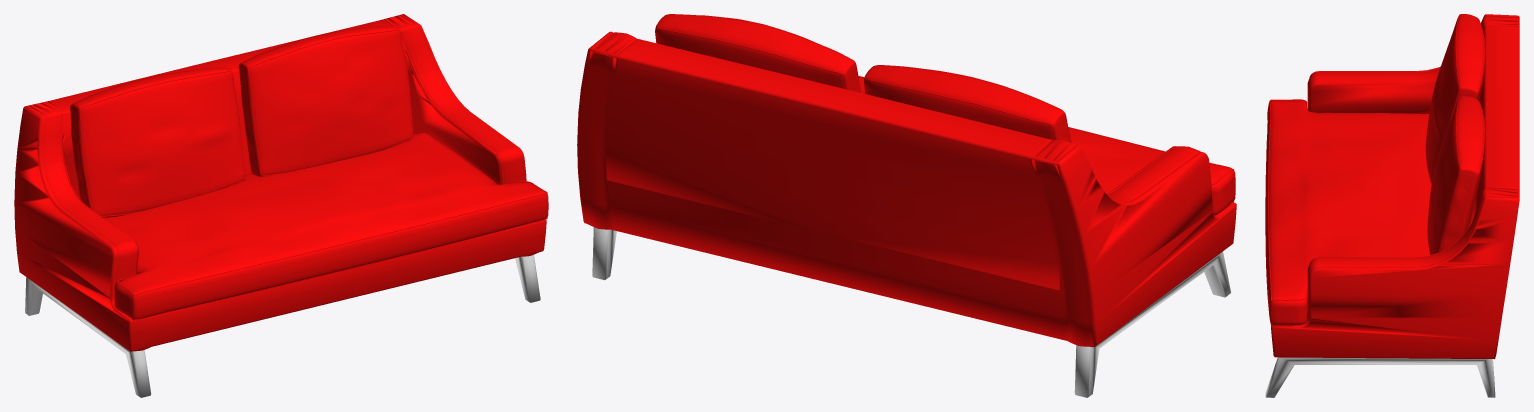
The picture shows the model from 3 angles, left to right: view 1: azimuth 30°, elevation 25°; view 2: azimuth 150°, elevation 25°; view 3: azimuth 270°, elevation 25°; orthographic projection. The views are drawn at different scales.
Parts seen in each view (by area): view 1: buffer-0-mesh-0_2_2, buffer-0-mesh-0_1_1, buffer-0-mesh-0_0; view 2: buffer-0-mesh-0_1_1, buffer-0-mesh-0_2_2, buffer-0-mesh-0_0; view 3: buffer-0-mesh-0_1_1, buffer-0-mesh-0_2_2, buffer-0-mesh-0_0.
Part boxes in pixels (x1=…): buffer-0-mesh-0_2_2: x1=70, y1=25, x2=548, y2=319; buffer-0-mesh-0_1_1: x1=14, y1=14, x2=547, y2=351; buffer-0-mesh-0_0: x1=25, y1=254, x2=540, y2=397; buffer-0-mesh-0_1_1: x1=577, y1=14, x2=1236, y2=347; buffer-0-mesh-0_2_2: x1=655, y1=14, x2=1235, y2=215; buffer-0-mesh-0_0: x1=592, y1=227, x2=1230, y2=397; buffer-0-mesh-0_1_1: x1=1268, y1=14, x2=1519, y2=359; buffer-0-mesh-0_2_2: x1=1265, y1=14, x2=1485, y2=325; buffer-0-mesh-0_0: x1=1265, y1=357, x2=1495, y2=397.
Bounding box in the file's own units: 1.63 × 0.8148 × 0.8617.
